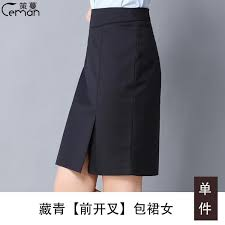F_tailored skirt: (49, 5, 167, 186)
